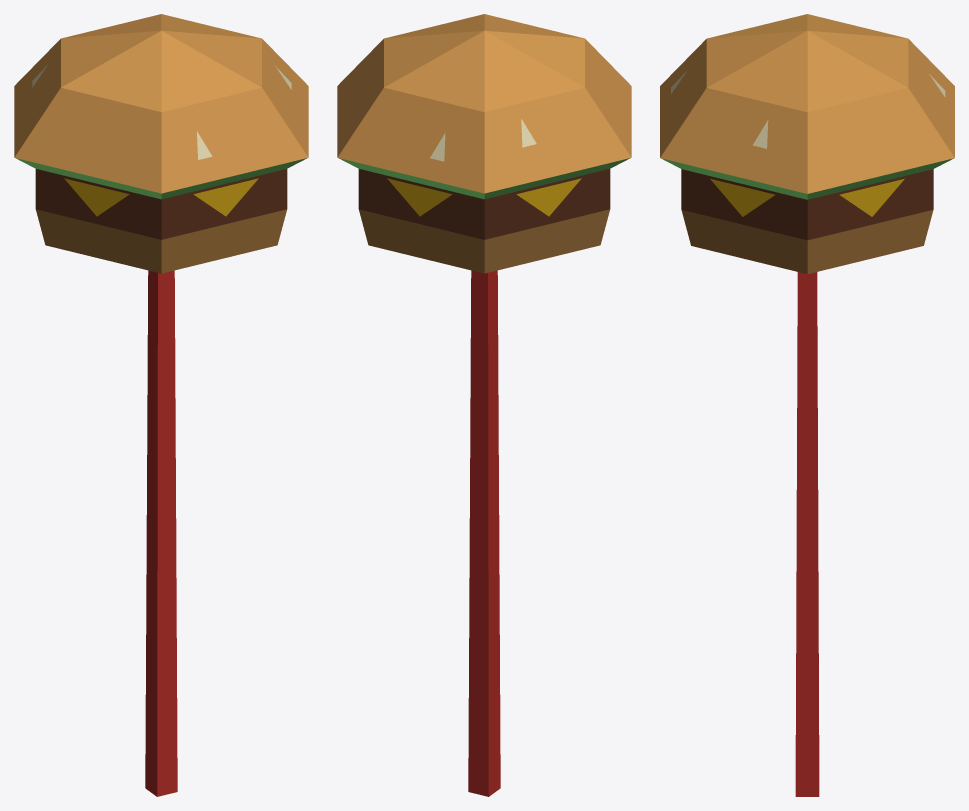
The model's file is prop_foodsign.glb.
The picture shows the model from 3 angles, left to right: view 1: azimuth 30°, elevation 25°; view 2: azimuth 150°, elevation 25°; view 3: azimuth 270°, elevation 25°; orthographic projection.
Parts seen in each view (by area): view 1: prop_foodsign; view 2: prop_foodsign; view 3: prop_foodsign.
Part boxes in pixels (x1=…): prop_foodsign: x1=14, y1=14, x2=308, y2=796; prop_foodsign: x1=337, y1=14, x2=631, y2=796; prop_foodsign: x1=660, y1=14, x2=954, y2=796.
Size of the model in its own units: 3.04 by 7.5 by 2.63.
